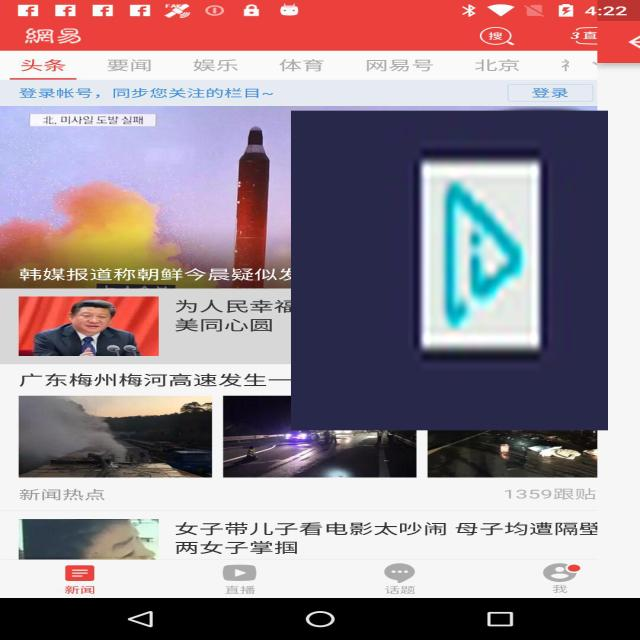sneaking: (291, 111, 608, 430)
